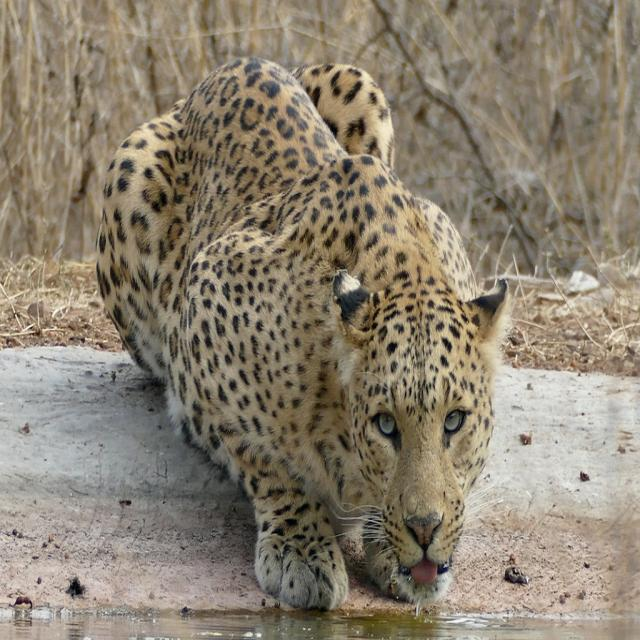Leopard: (99, 54, 509, 612)
